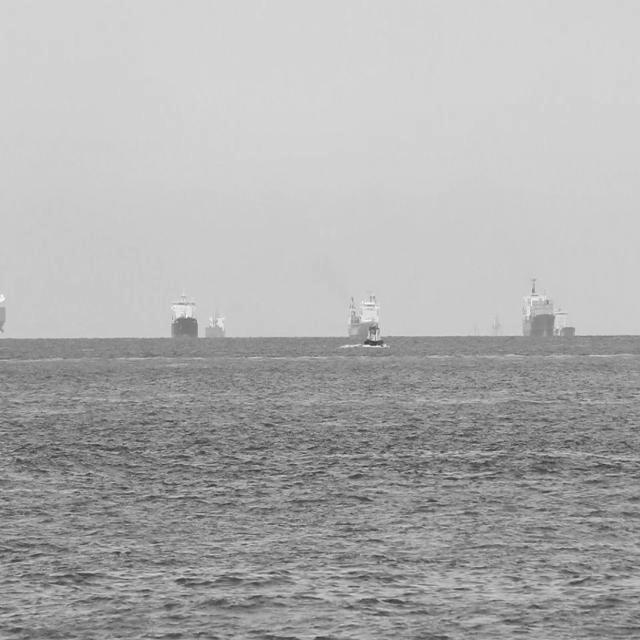ship: (342, 286, 377, 343), (166, 283, 199, 343), (520, 272, 550, 338), (550, 300, 576, 342), (204, 308, 228, 346), (359, 318, 385, 348), (490, 311, 508, 338)
